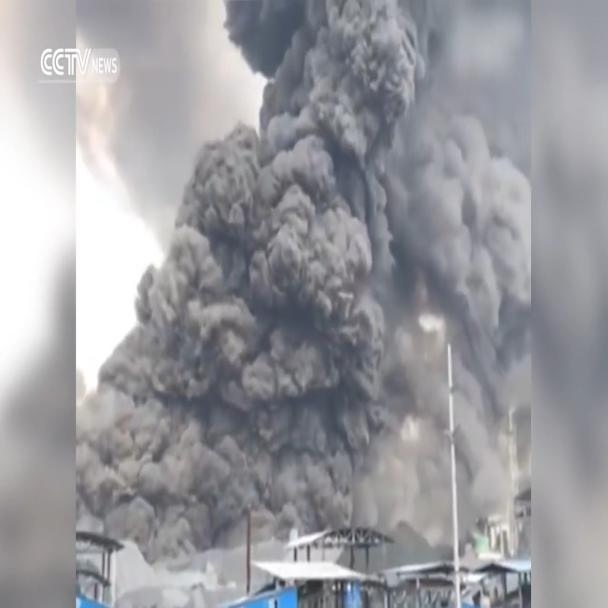smoke: (74, 4, 525, 583)
